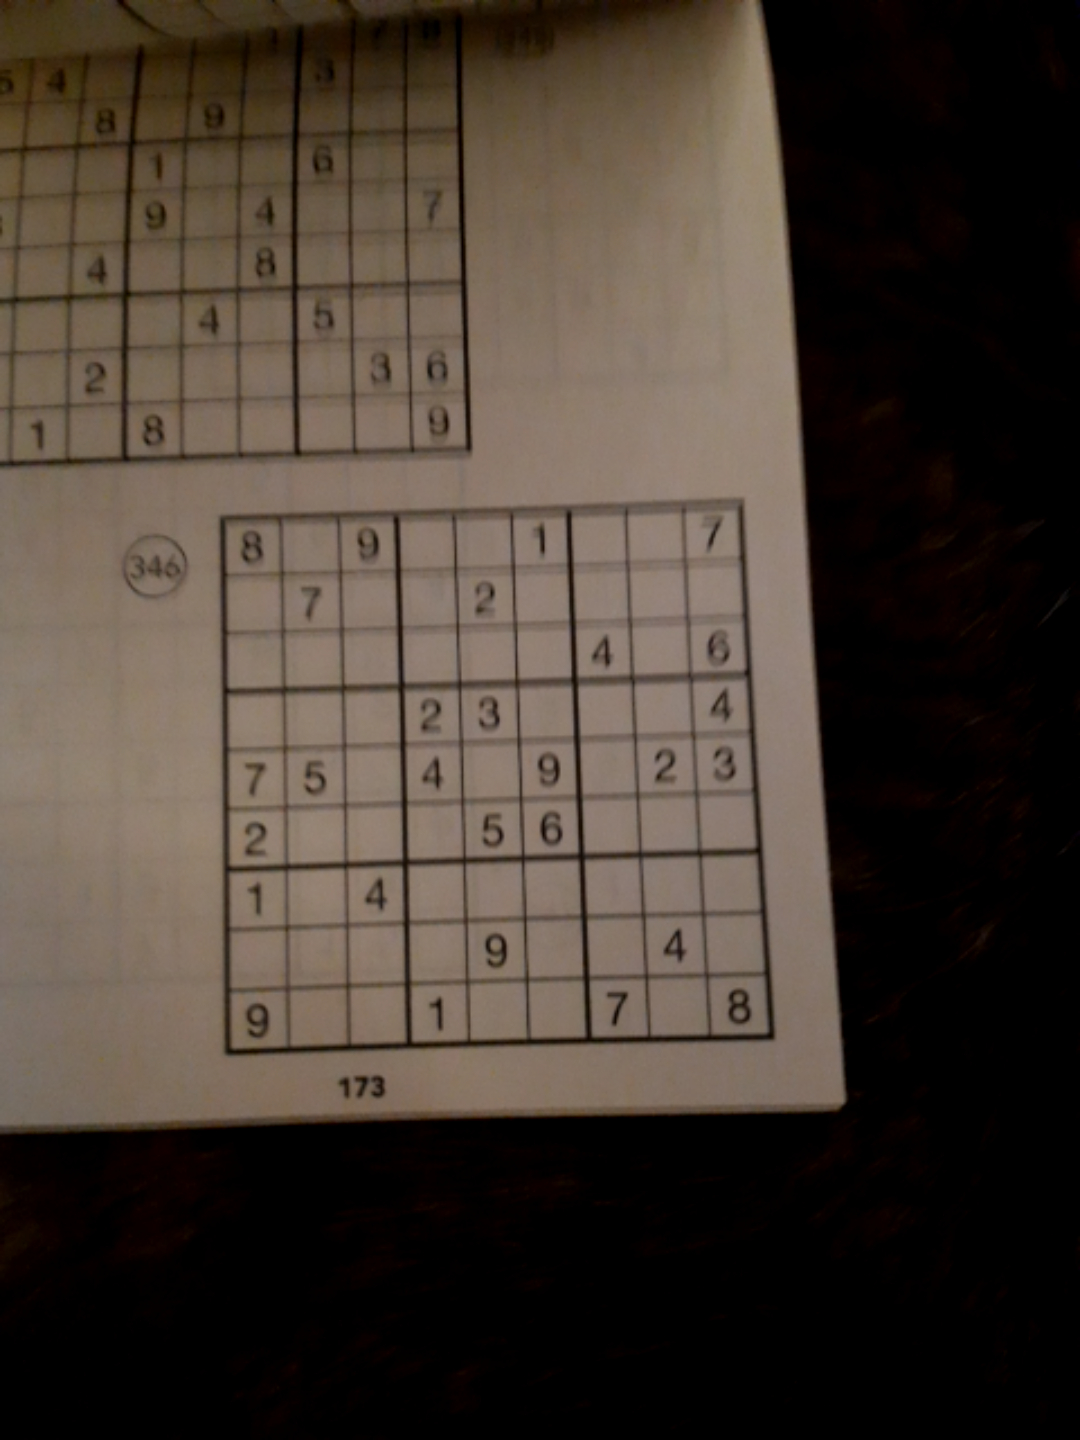sudoku: (213, 499, 774, 1055)
